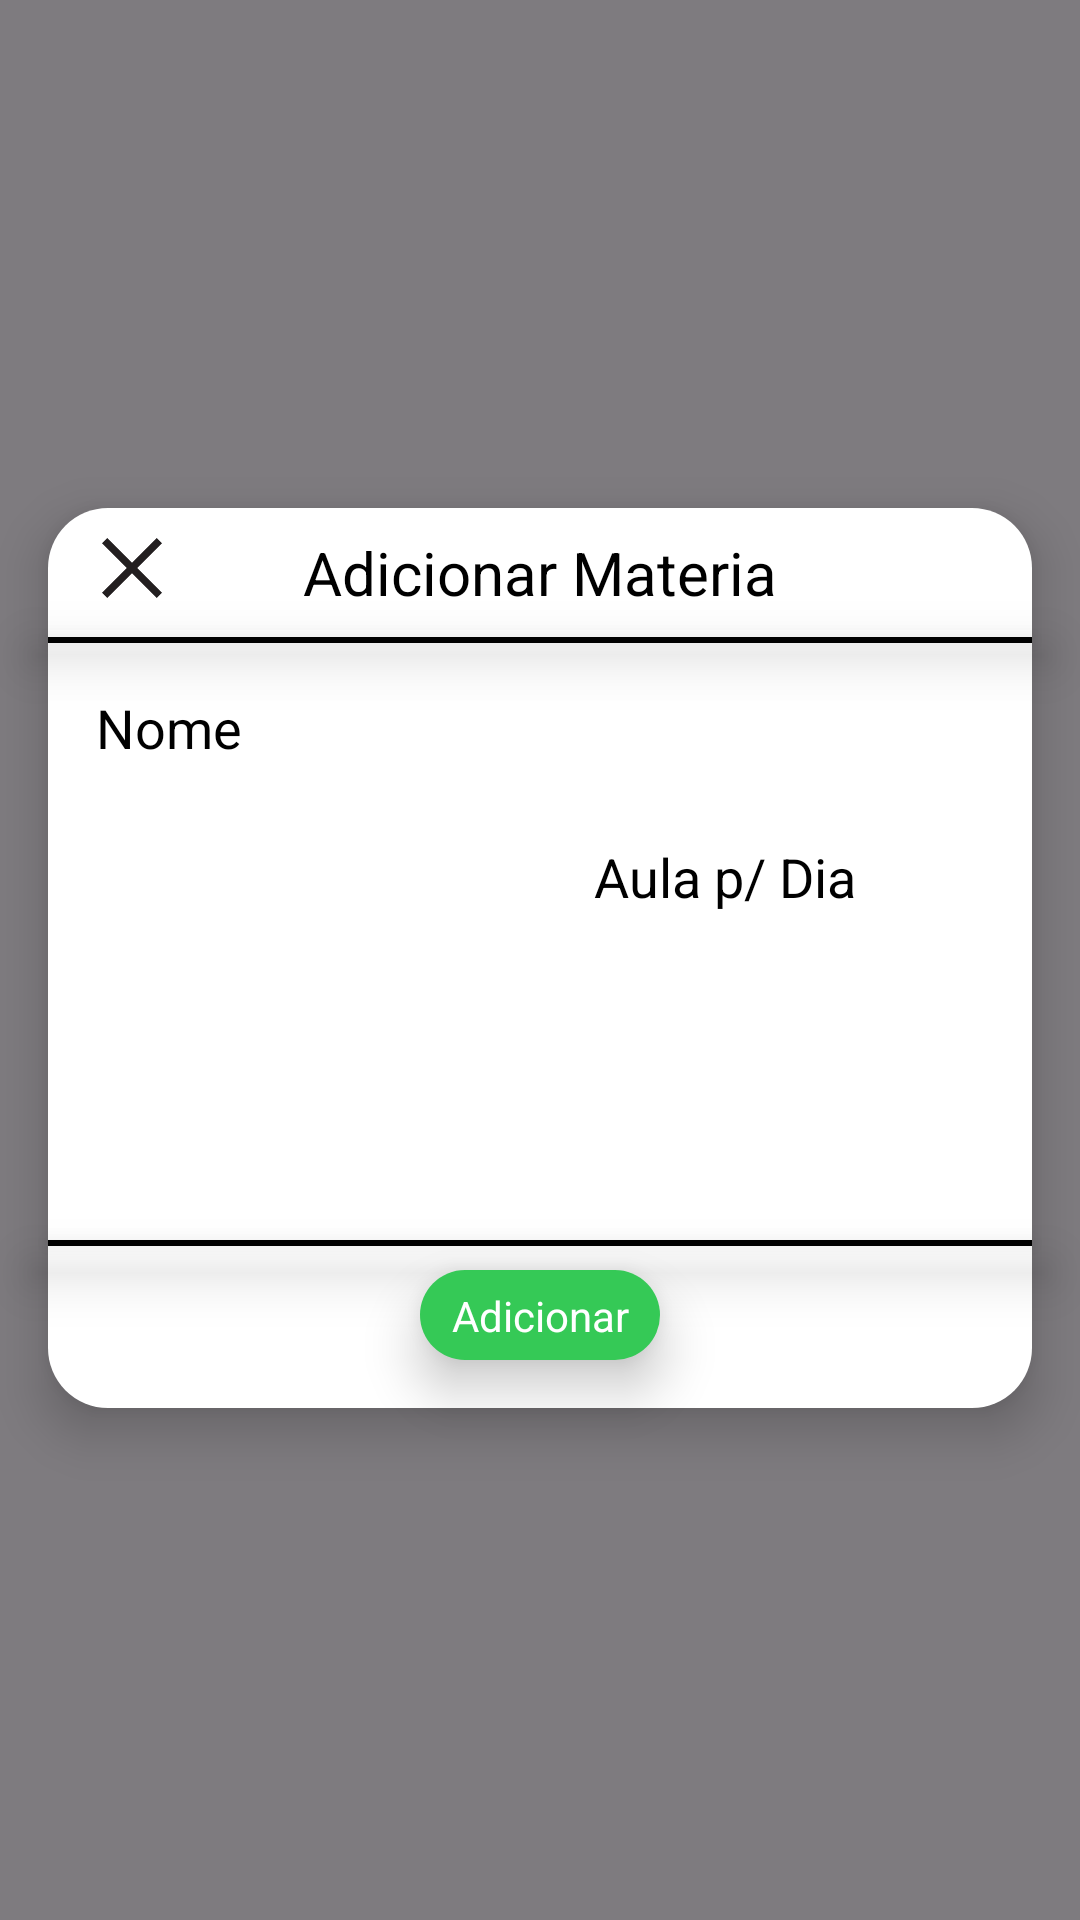

Screen size 1080px x 1920px. Icon name, then its center in pixels as (x=x, y=y):
close: (x=132, y=568)
